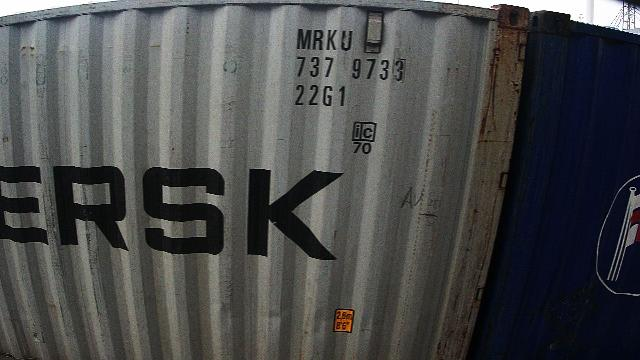3: (392, 58, 406, 82), (310, 56, 320, 78), (380, 60, 390, 80)
7: (324, 56, 334, 78), (366, 58, 376, 80), (297, 55, 307, 76)
9: (352, 58, 362, 80)
K: (326, 29, 338, 50)
M: (296, 29, 312, 50)
R: (312, 28, 324, 50)
U: (341, 29, 354, 50)
